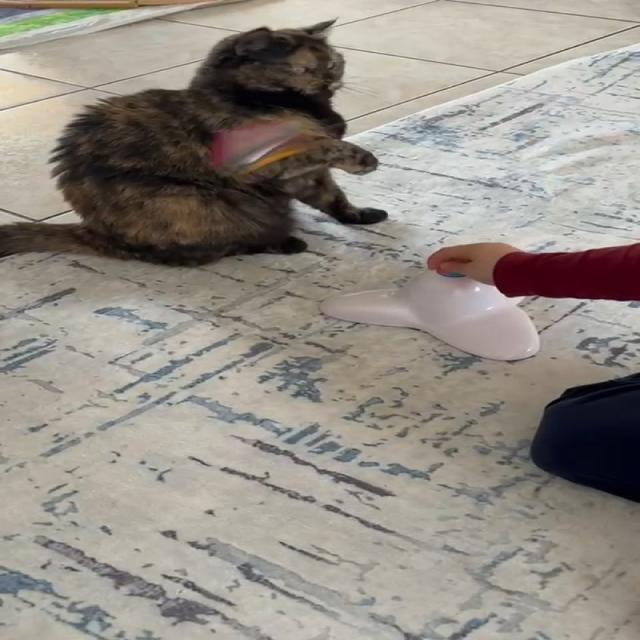authorized: (0, 17, 388, 268)
